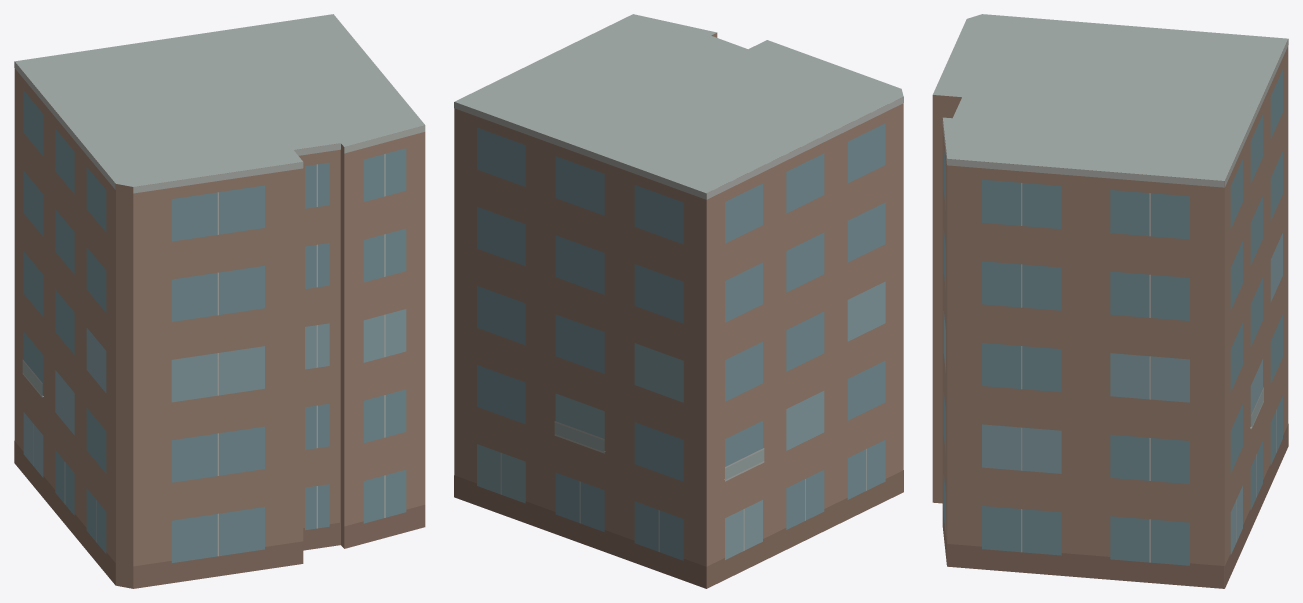
The model's file is survey-upis-32974544.glb.
The picture shows the model from 3 angles, left to right: view 1: azimuth 30°, elevation 25°; view 2: azimuth 150°, elevation 25°; view 3: azimuth 270°, elevation 25°; orthographic projection. The views are drawn at different scales.
Visible parts, largest first — view 1: survey-upis-32974544.tmp; view 2: survey-upis-32974544.tmp; view 3: survey-upis-32974544.tmp.
Boxes of the visible parts, box(x1,y1,x2,y2) form: survey-upis-32974544.tmp: box(14, 14, 425, 588); survey-upis-32974544.tmp: box(454, 14, 903, 588); survey-upis-32974544.tmp: box(932, 14, 1288, 588).
Size of the model in its own units: 13.18 by 15 by 11.87.
